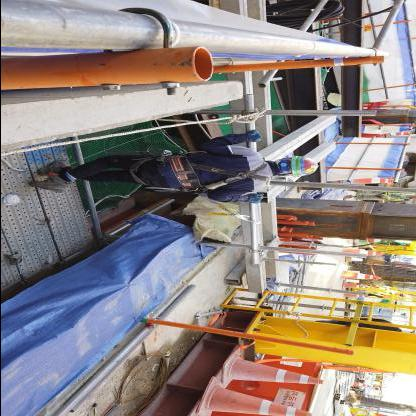safety-shoe: (25, 175, 66, 195), (34, 158, 70, 174)
